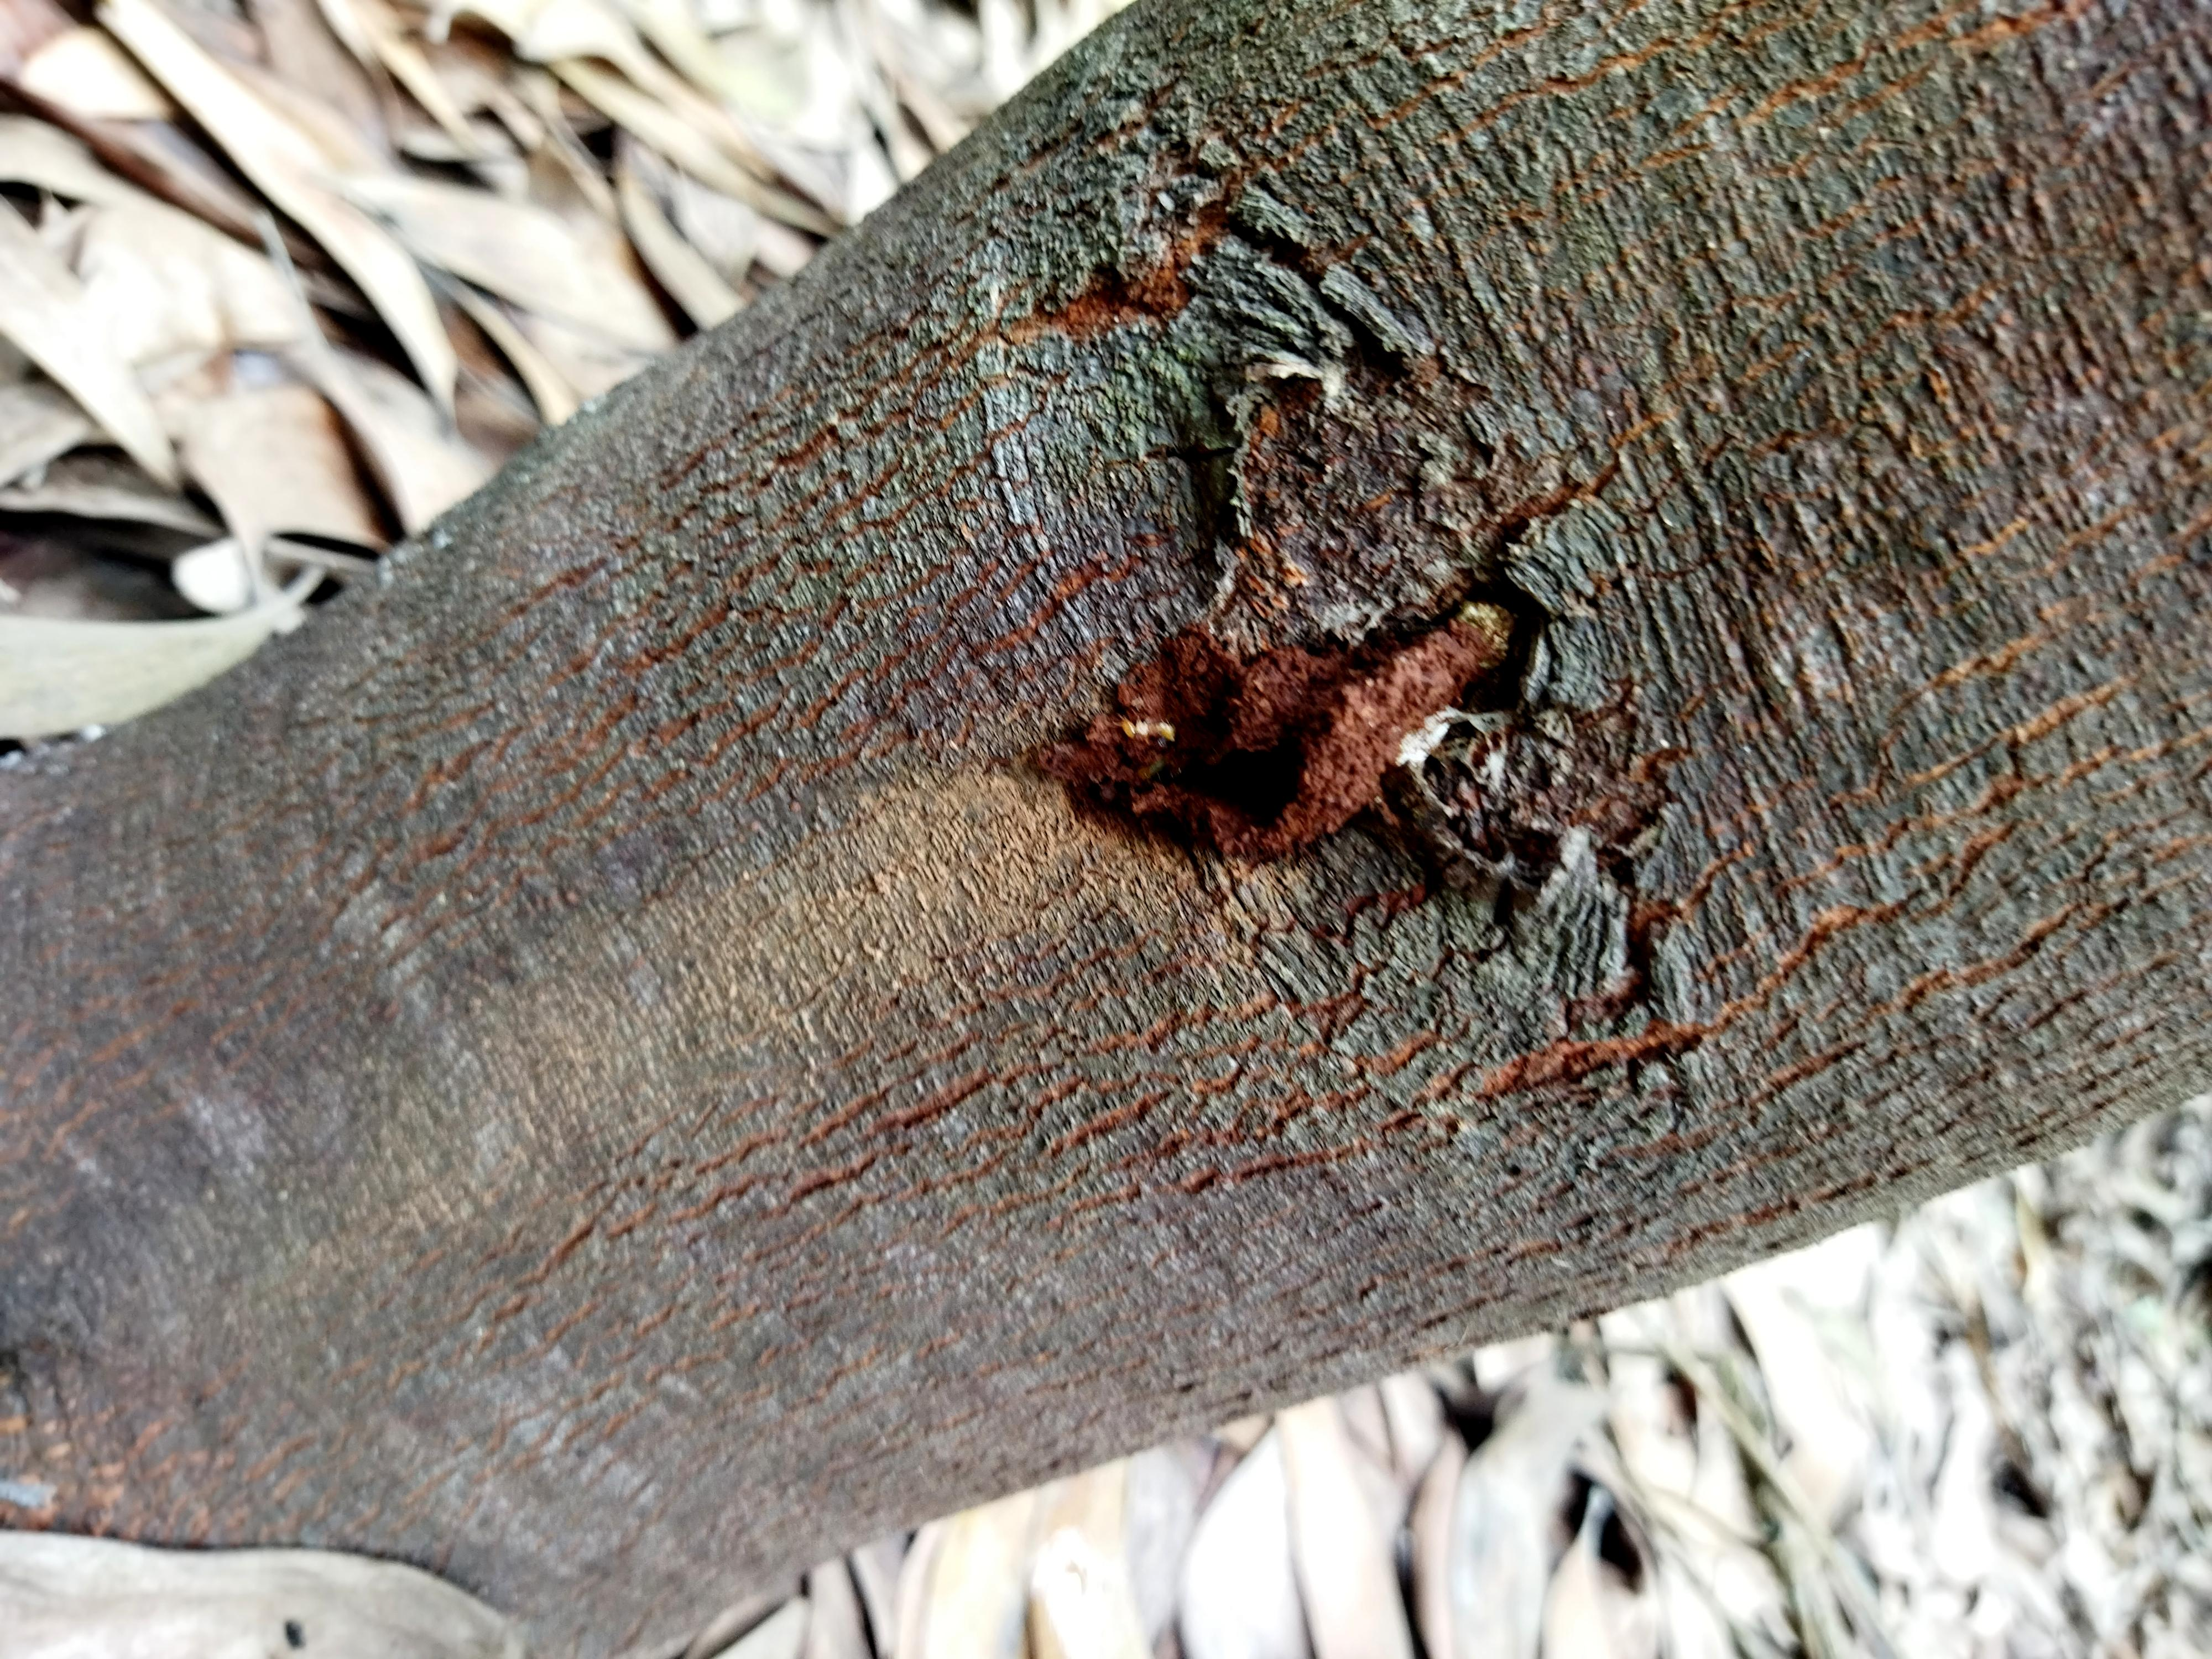Termite - Nest: (1007, 532, 1561, 913)
